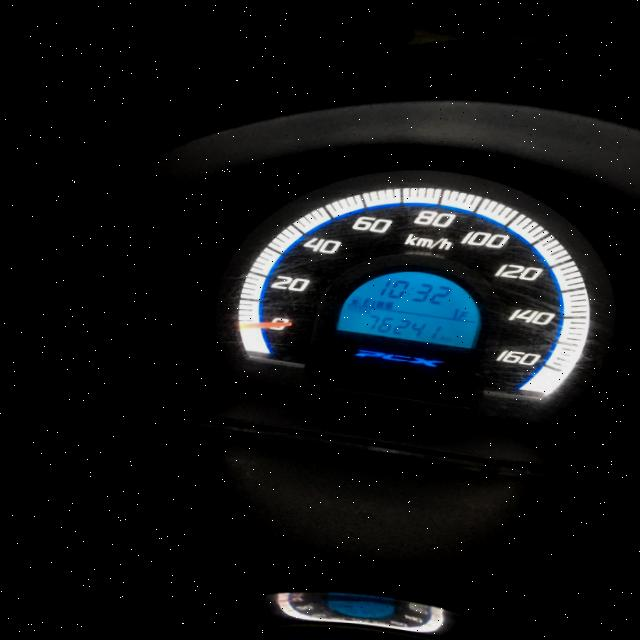odometer: (331, 260, 488, 352)
